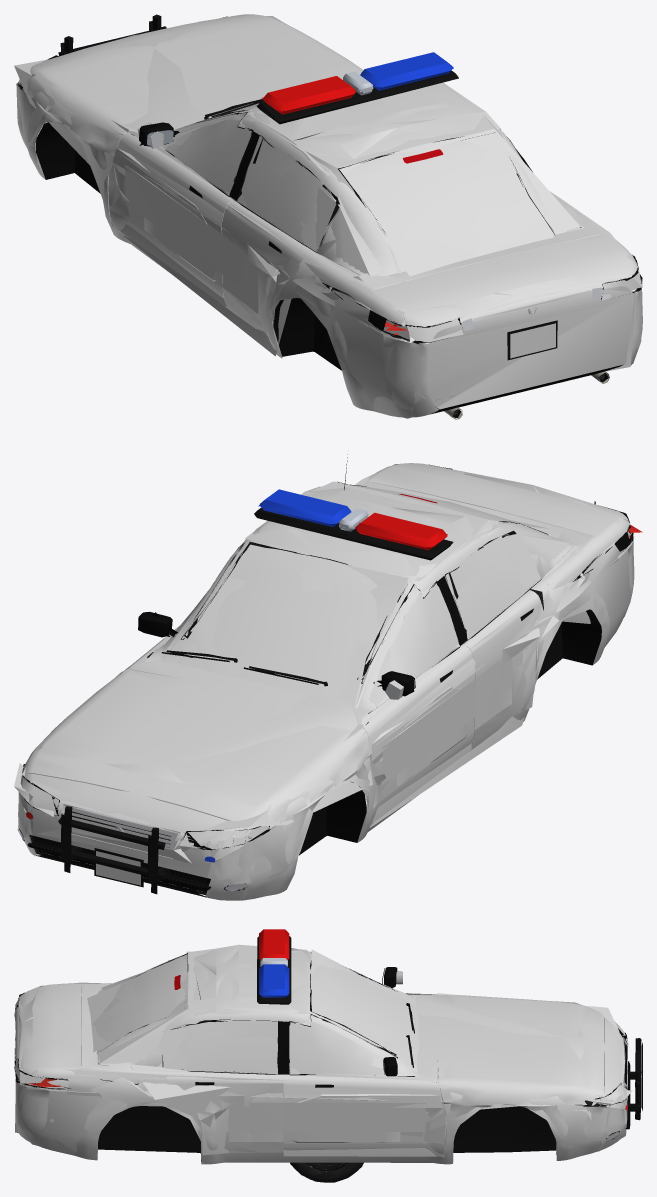
The model's file is police.glb.
3 renders of one model, top to bottom at view 1: azimuth 30°, elevation 25°; view 2: azimuth 150°, elevation 25°; view 3: azimuth 270°, elevation 25°, orthographic. The views are drawn at different scales.
Visible parts, largest first — view 1: L0_paint, L1_paint, L0_glass, L0_details, L0_paint2, L1_glass, L0_lamps, L2_glass, L0_details__dl, L0_paint__dl, L2_paint, L0_glass__dl (+6 smaller); view 2: L0_paint, L0_glass, L1_paint, L0_details, L0_paint2, L1_glass, L0_lamps, L2_paint, L0_glass__dl, L0_details__dl, L0_paint__dl, L1_details (+6 smaller); view 3: L0_paint, L1_paint, L0_glass, L0_details, L0_paint2, L0_details__dr, L1_glass, L2_paint, L0_paint__dr, L0_glass__dr, L0_paint2__dr, L0_lamps (+9 smaller).
Boxes of the visible parts, left/top/right/bottom form: L0_paint: left=17, top=14, right=642, bottom=417; L1_paint: left=16, top=16, right=641, bottom=418; L0_glass: left=161, top=103, right=536, bottom=271; L0_details: left=17, top=14, right=641, bottom=419; L0_paint2: left=221, top=86, right=500, bottom=343; L1_glass: left=160, top=112, right=553, bottom=272; L0_lamps: left=263, top=52, right=601, bottom=337; L2_glass: left=172, top=104, right=553, bottom=276; L0_details__dl: left=125, top=134, right=229, bottom=272; L0_paint__dl: left=108, top=132, right=232, bottom=303; L2_paint: left=14, top=59, right=635, bottom=371; L0_glass__dl: left=166, top=119, right=251, bottom=192; L0_paint: left=18, top=463, right=634, bottom=900; L0_glass: left=162, top=485, right=529, bottom=711; L1_paint: left=18, top=463, right=631, bottom=900; L0_details: left=19, top=454, right=633, bottom=898; L0_paint2: left=245, top=486, right=555, bottom=744; L1_glass: left=144, top=495, right=540, bottom=708; L0_lamps: left=26, top=489, right=629, bottom=862; L2_paint: left=59, top=485, right=593, bottom=863; L0_glass__dl: left=389, top=583, right=458, bottom=680; L0_details__dl: left=366, top=641, right=476, bottom=785; L0_paint__dl: left=353, top=643, right=475, bottom=825; L1_details: left=19, top=466, right=633, bottom=889; L0_paint: left=15, top=950, right=627, bottom=1164; L1_paint: left=15, top=947, right=627, bottom=1163; L0_glass: left=96, top=956, right=418, bottom=1073; L0_details: left=14, top=936, right=642, bottom=1161; L0_paint2: left=167, top=950, right=307, bottom=1155; L0_details__dr: left=283, top=1064, right=436, bottom=1131; L1_glass: left=92, top=953, right=422, bottom=1076; L2_paint: left=15, top=951, right=629, bottom=1137; L0_paint__dr: left=283, top=1074, right=446, bottom=1154; L0_glass__dr: left=289, top=1021, right=385, bottom=1075; L0_paint2__dr: left=284, top=1094, right=444, bottom=1143; L0_lamps: left=14, top=929, right=627, bottom=1109.
Size of the model in its own units: 1.94 by 2 by 4.99.
